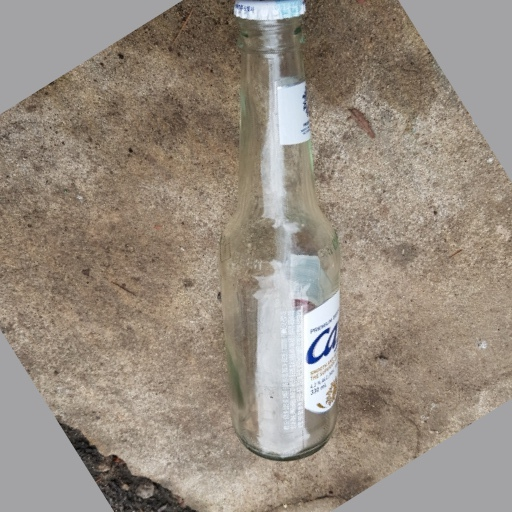Glass_1: (222, 1, 343, 462)
